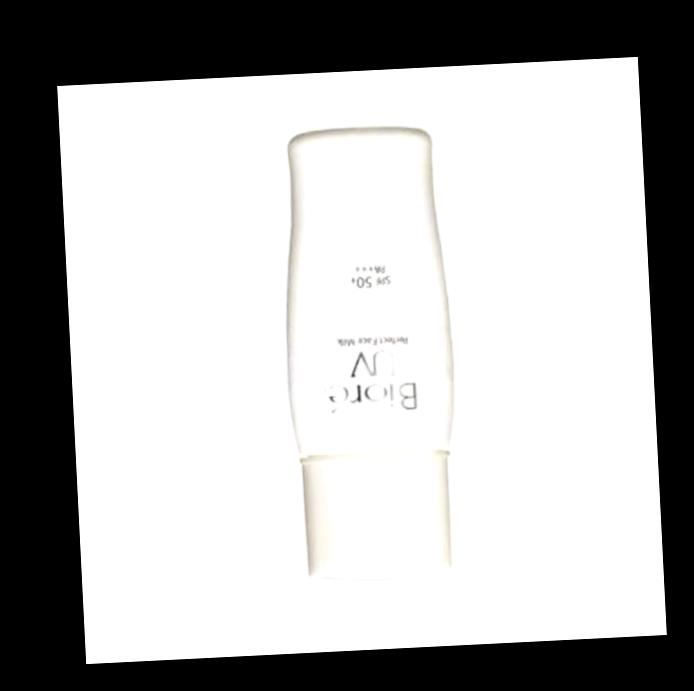cosmetic: (274, 123, 459, 582)
